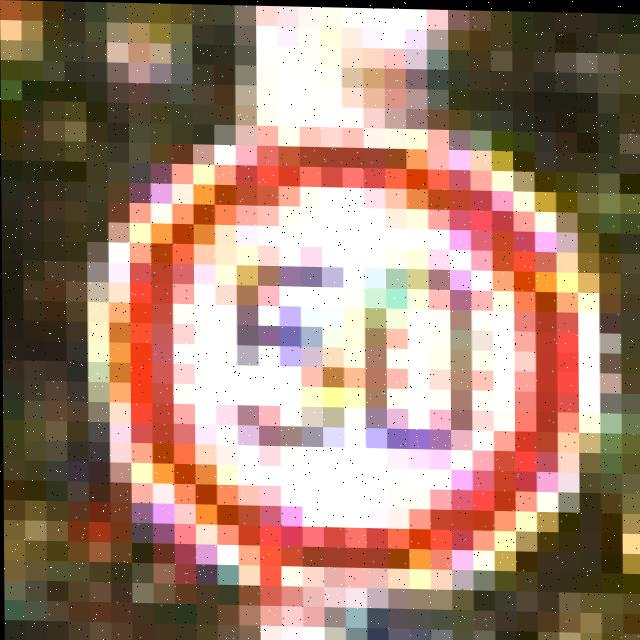speed_limit_50: (65, 101, 640, 614)
